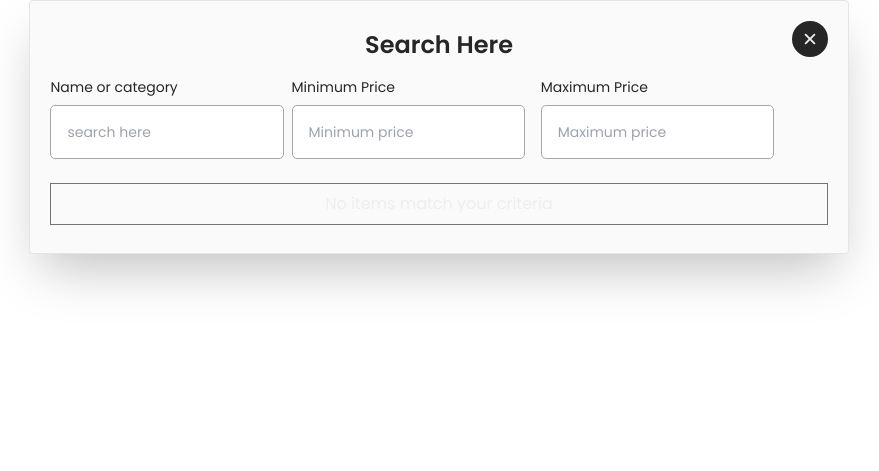
Test: SearchComponent › displays products when API returns results
The image size is (879, 471).
Type "test query" into the search field with placeholder "search here" at (167, 132), box [59,114,275,150]
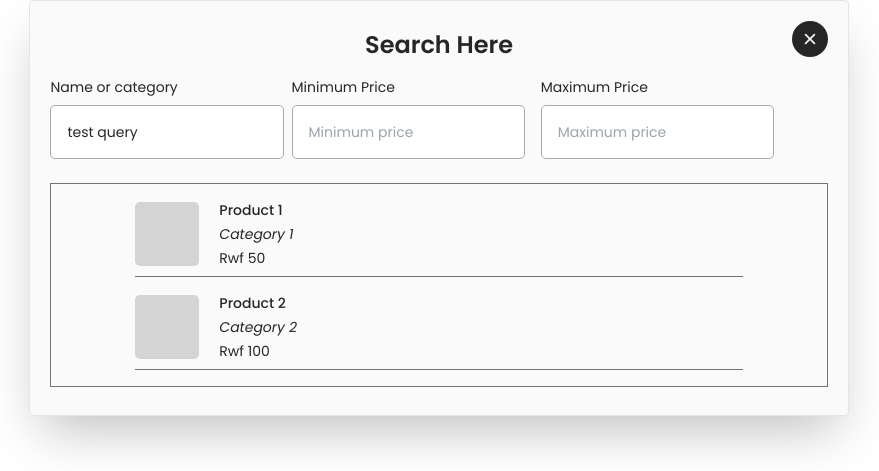
Check: the text "Product 1" is shown, box [219,200,283,220]
Check: the text "Product 2" is shown, box [219,293,286,313]
